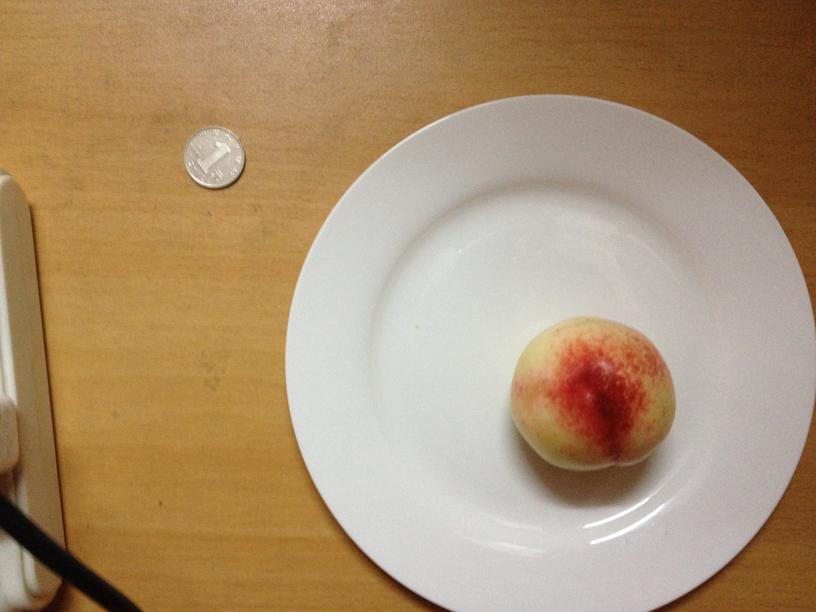coin: (185, 125, 245, 189)
peach: (512, 315, 677, 471)
